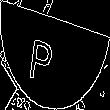P_N: (41, 26, 69, 84)
